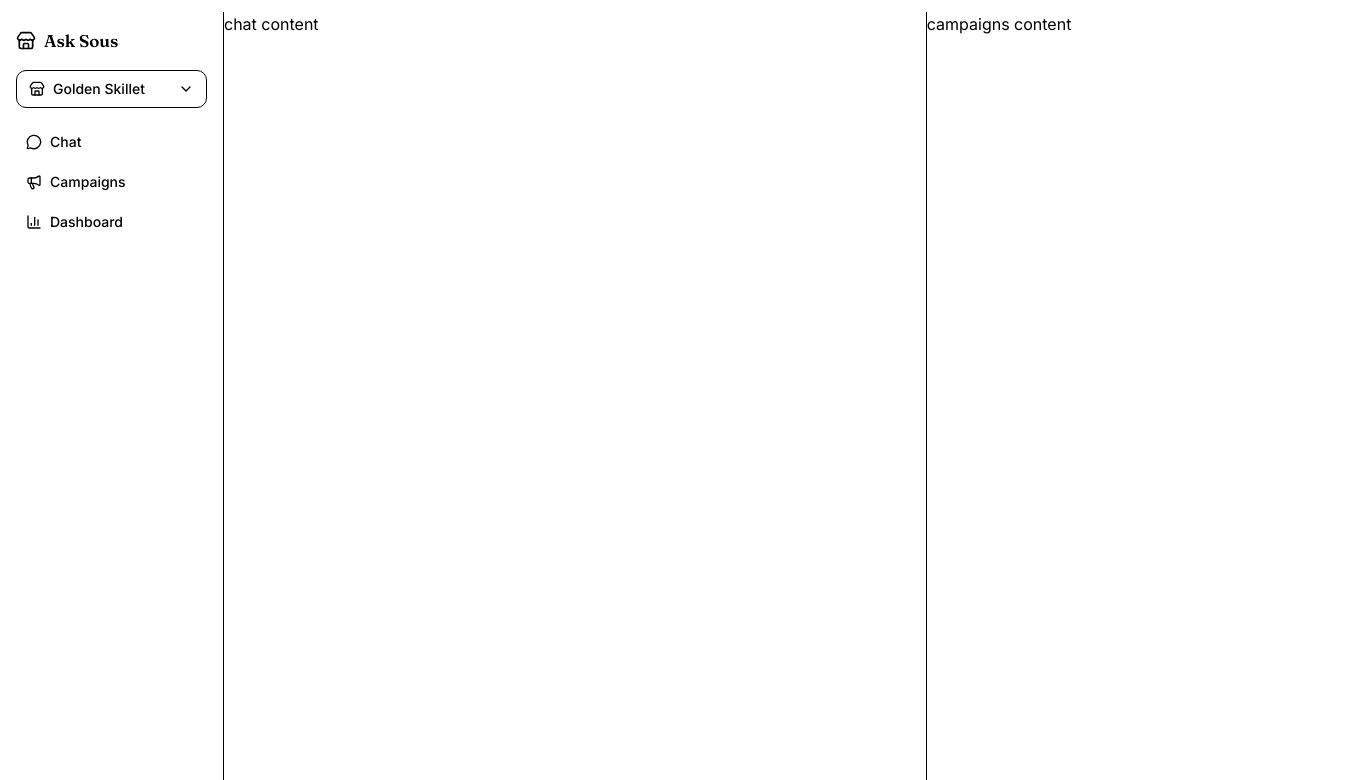
Test: AppShell › switching to Dashboard shows the full-width dashboard view instead of the split
The image size is (1366, 780).
Check: the text "dashboard content" is not shown
Click the button "Dashboard": (112, 222) [16, 204, 207, 240]
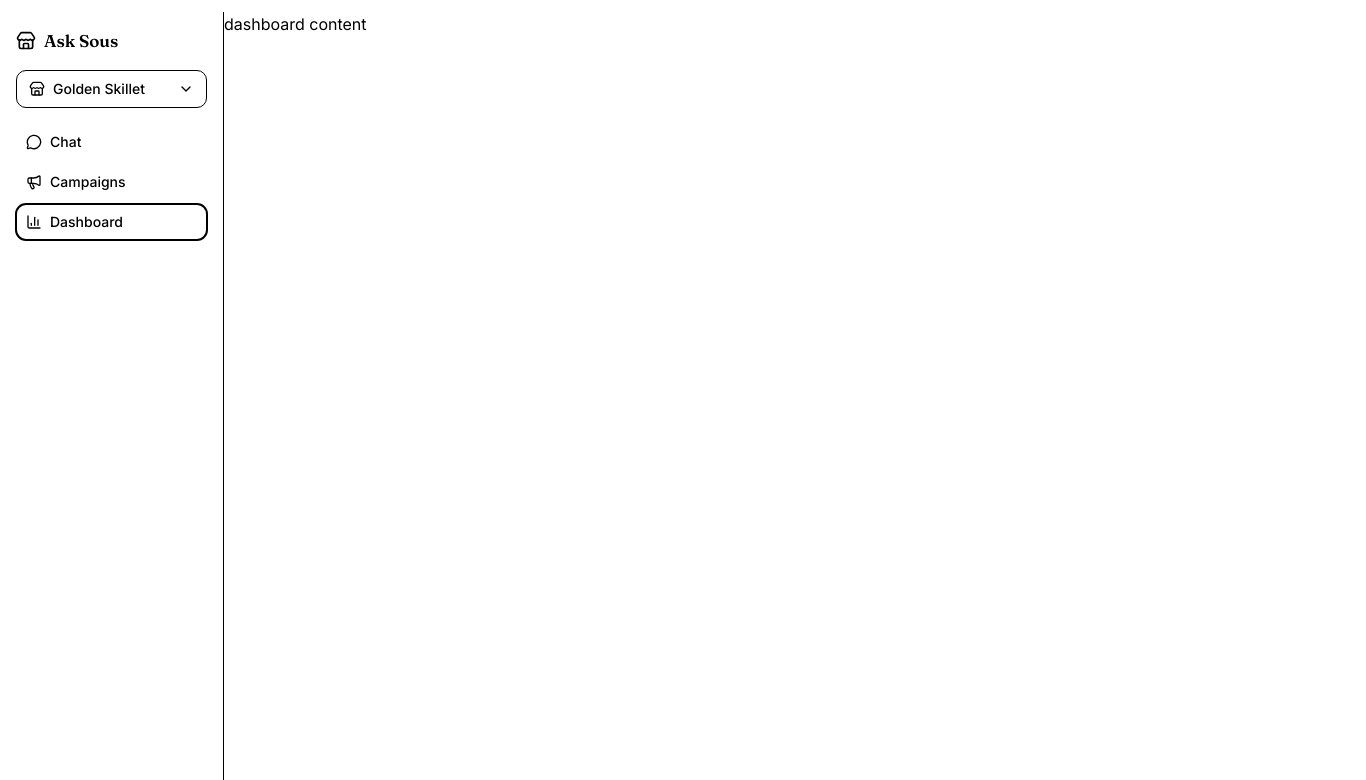
Check: the text "dashboard content" is shown, box [224, 14, 367, 34]
Check: the text "chat content" is gone
Check: the text "campaigns content" is gone
